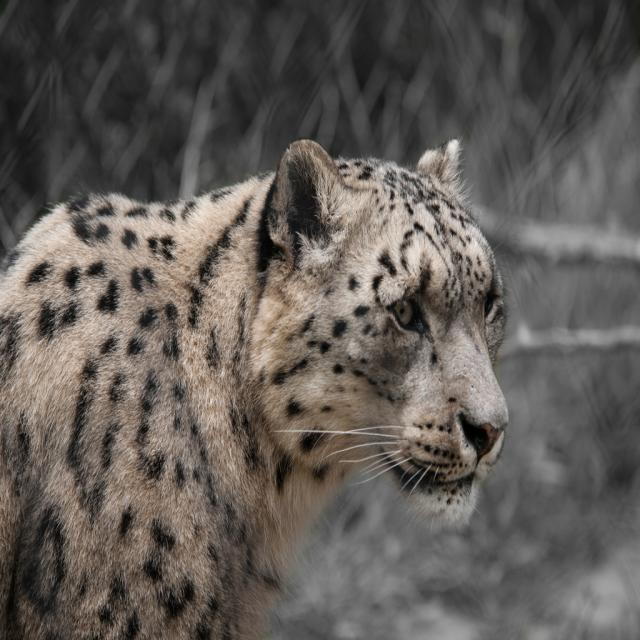Cheetah: (0, 138, 511, 640)
